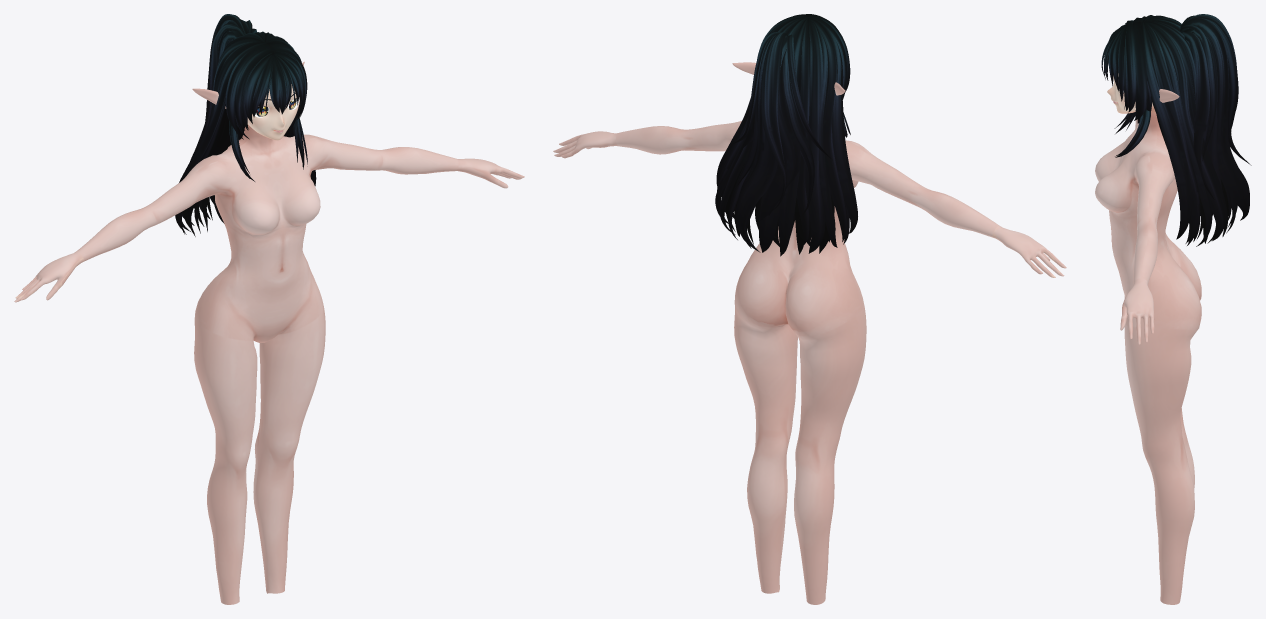
Rendered from elf_girl_2_textured.glb.
3 views of the same model, side by side, from view 1: azimuth 30°, elevation 25°; view 2: azimuth 150°, elevation 25°; view 3: azimuth 270°, elevation 25° (orthographic).
Visible parts, largest first — view 1: Body, Hair; view 2: Body, Hair; view 3: Body, Hair.
Boxes of the visible parts, x1,y1,x2,y2 form: Body: [14, 61, 524, 604]; Hair: [175, 14, 316, 236]; Body: [553, 62, 1066, 604]; Hair: [715, 14, 857, 256]; Body: [1095, 73, 1201, 604]; Hair: [1101, 14, 1251, 246].
Size of the model in its own units: 39.54 by 42.5 by 10.51.
Materials: 1 (1 with a texture image).
